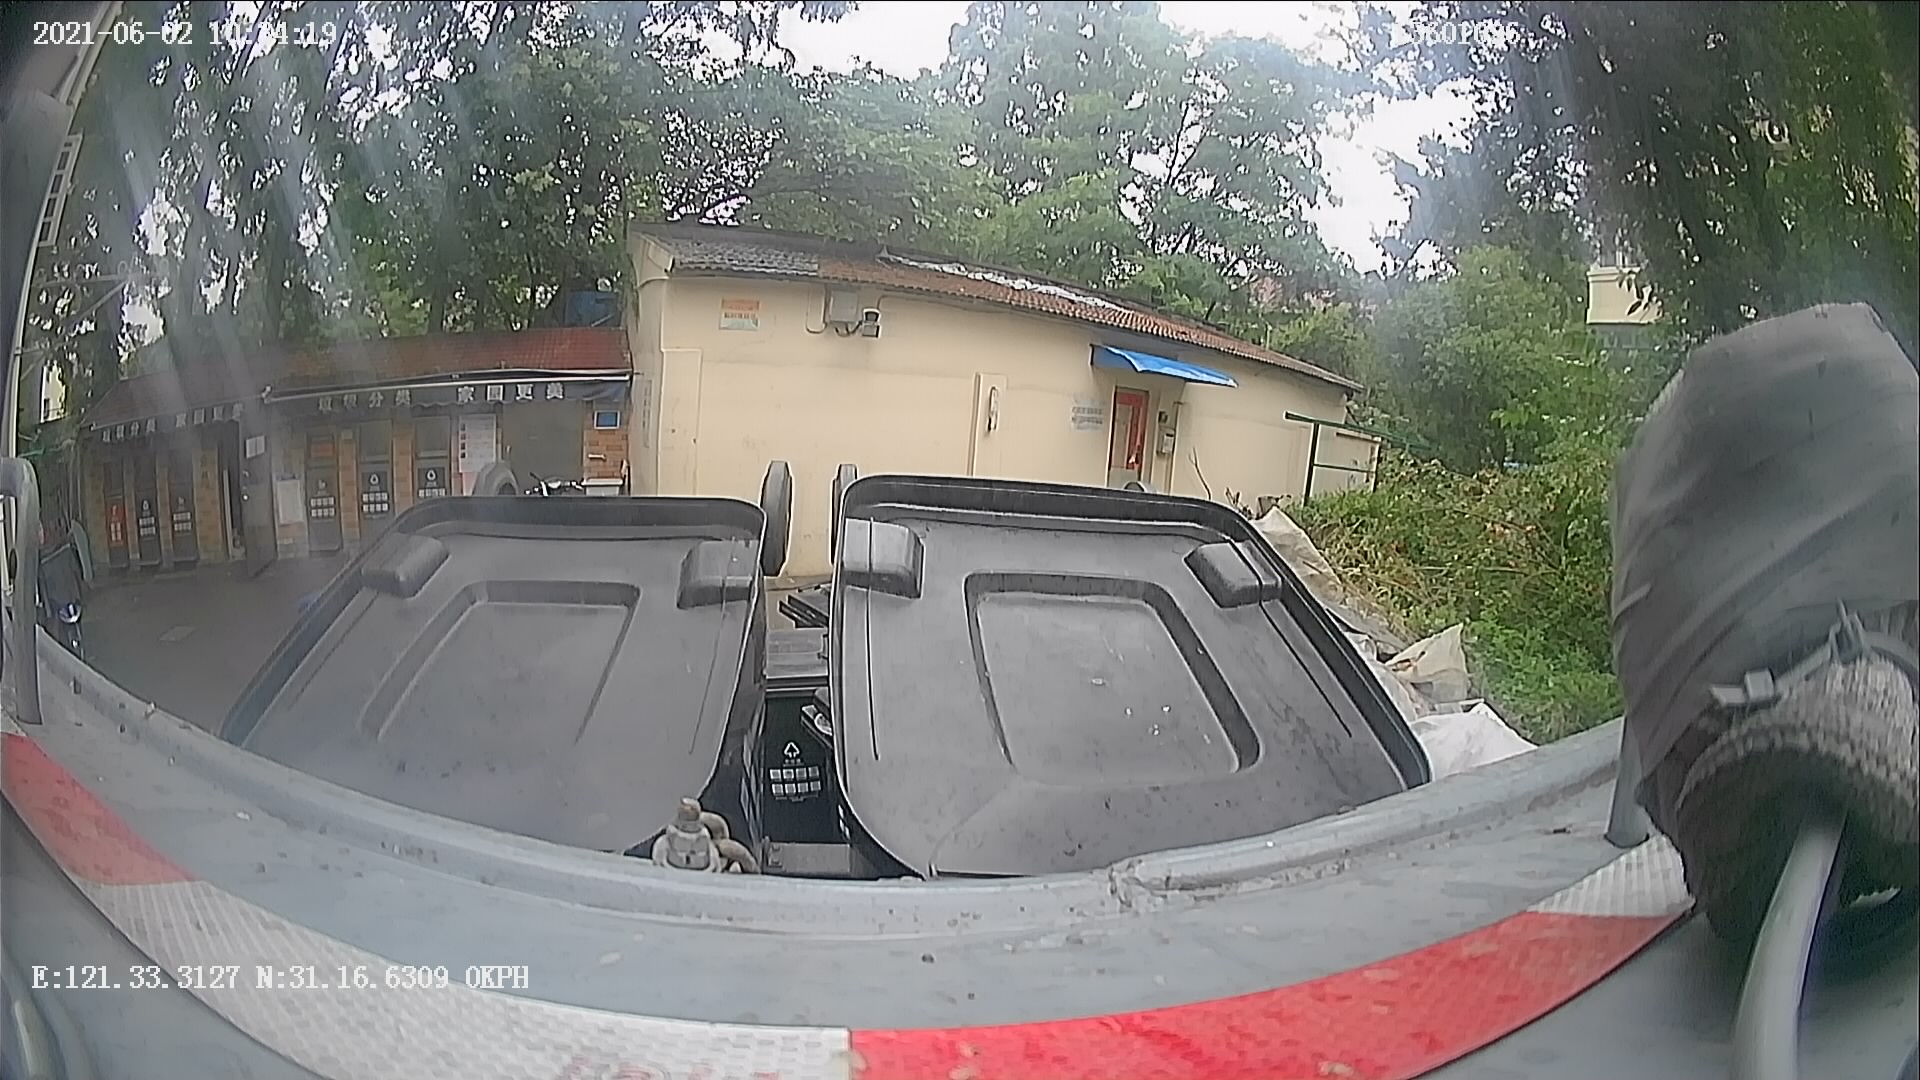Dry_garbage: (810, 436, 1305, 1050), (223, 433, 728, 1018)
